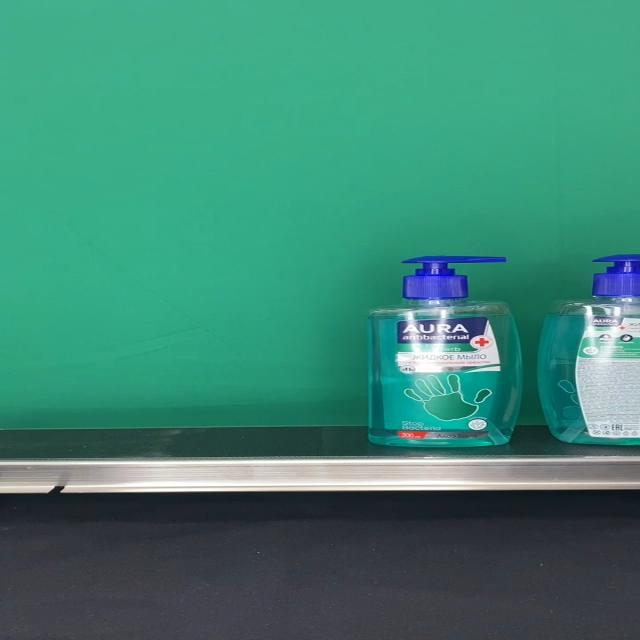Bottle: (368, 256, 523, 448)
Cap: (400, 256, 508, 300)
